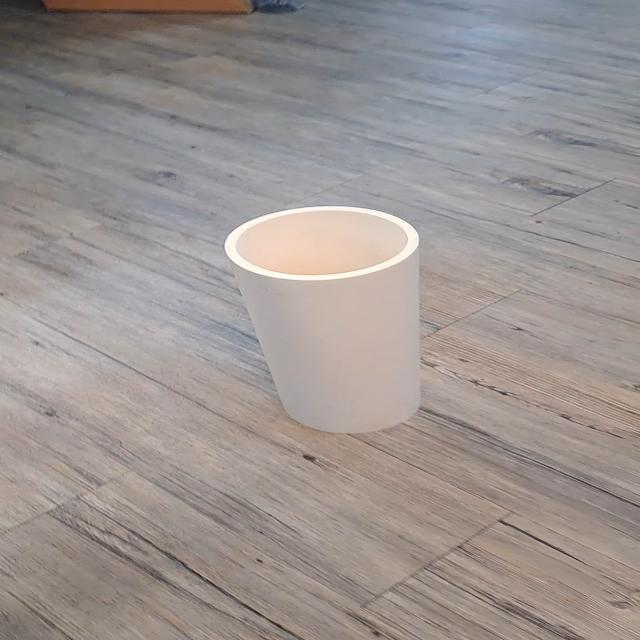CORAL: (178, 180, 494, 442)
